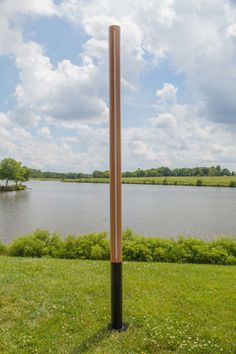light_pole: (104, 23, 128, 338)
